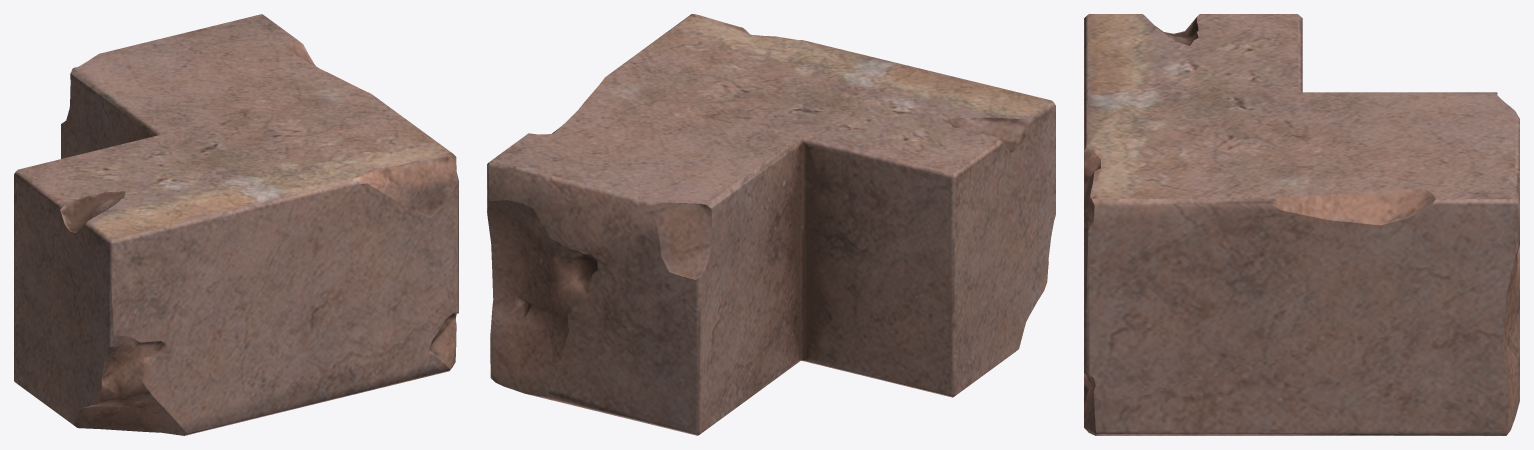
The model's file is MOD_DebrisBricks_D.fbx.
The picture shows the model from 3 angles, left to right: view 1: azimuth 30°, elevation 25°; view 2: azimuth 150°, elevation 25°; view 3: azimuth 270°, elevation 25°; orthographic projection. The views are drawn at different scales.
Visible parts, largest first — view 1: MOD_DebrisBricks_D; view 2: MOD_DebrisBricks_D; view 3: MOD_DebrisBricks_D.
Part boxes in pixels (box(x1,y1,x2,y2)): MOD_DebrisBricks_D: box(14, 14, 458, 435); MOD_DebrisBricks_D: box(487, 14, 1055, 435); MOD_DebrisBricks_D: box(1084, 14, 1519, 435).
Bounding box in the file's own units: 25.31 × 14.82 × 24.68.
